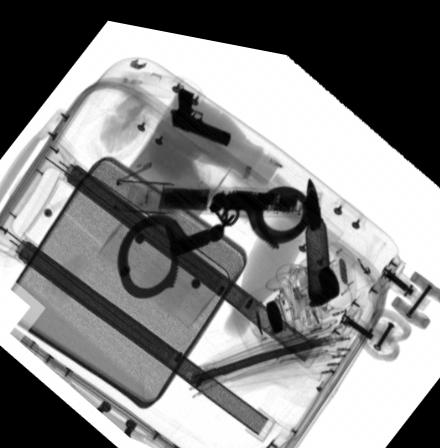Baton: (112, 170, 323, 211)
Bullet: (302, 165, 333, 293)
Gun: (169, 77, 230, 136)
HandCuffs: (115, 174, 308, 295)
